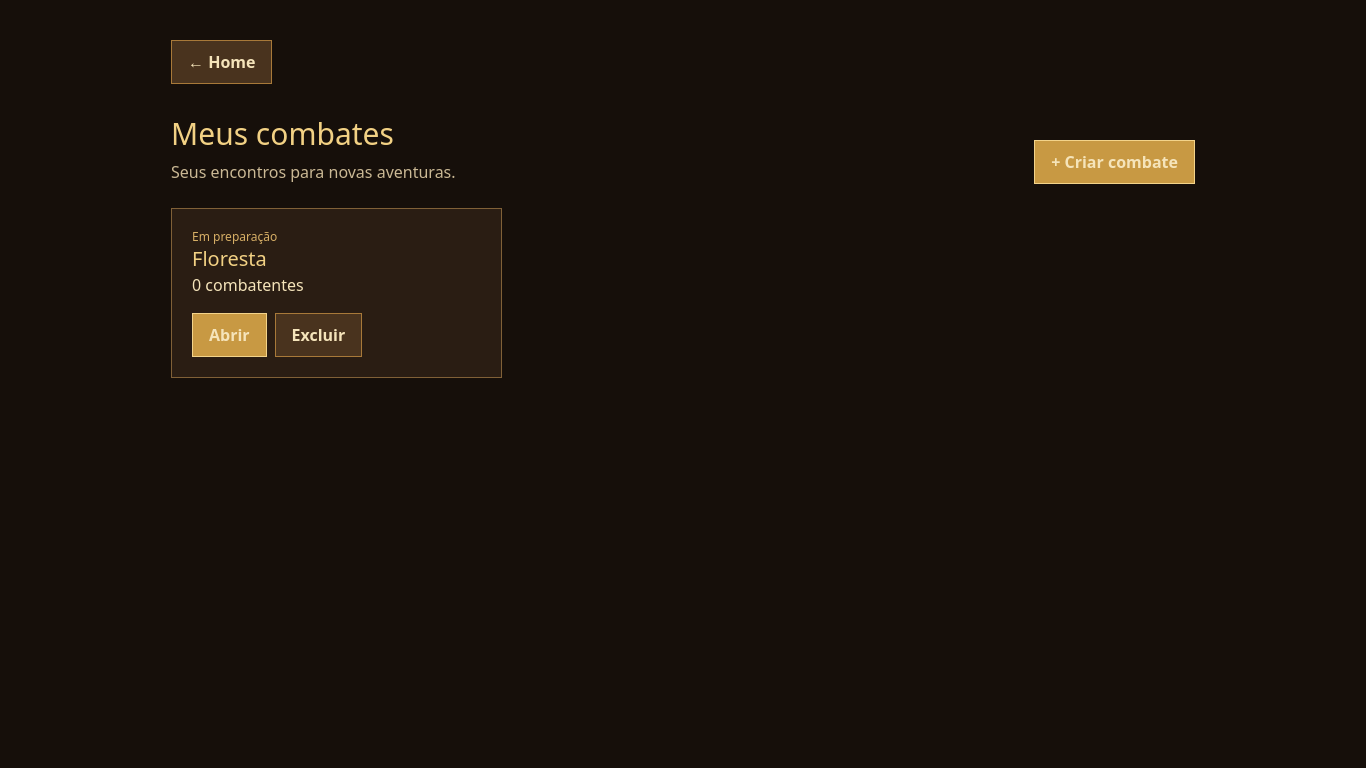
Test: discards selections on cancel and starts the next selection empty
The image size is (1366, 768).
Click the button "Abrir". click: click(229, 335)
box: [192,313,267,357]
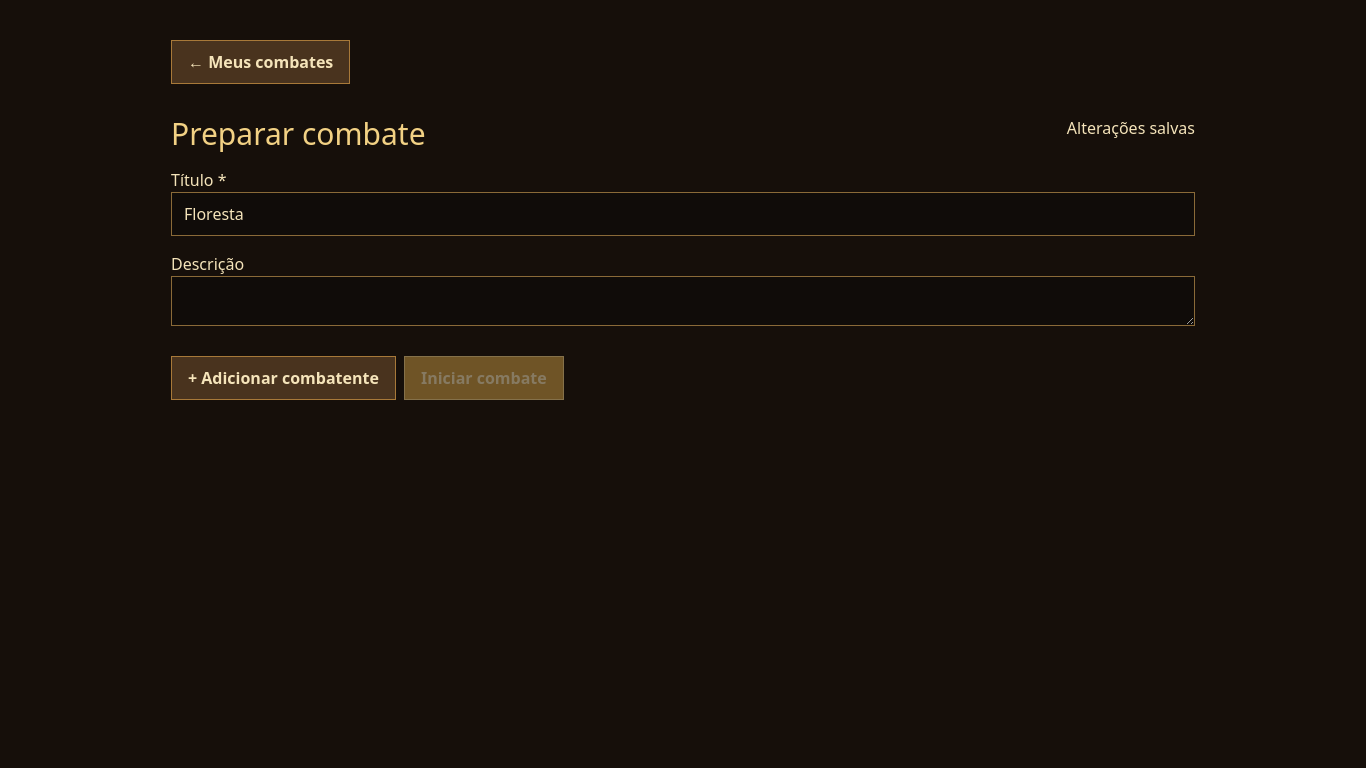
Click the button "+ Adicionar combatente". click: click(283, 378)
box: [171,356,396,400]
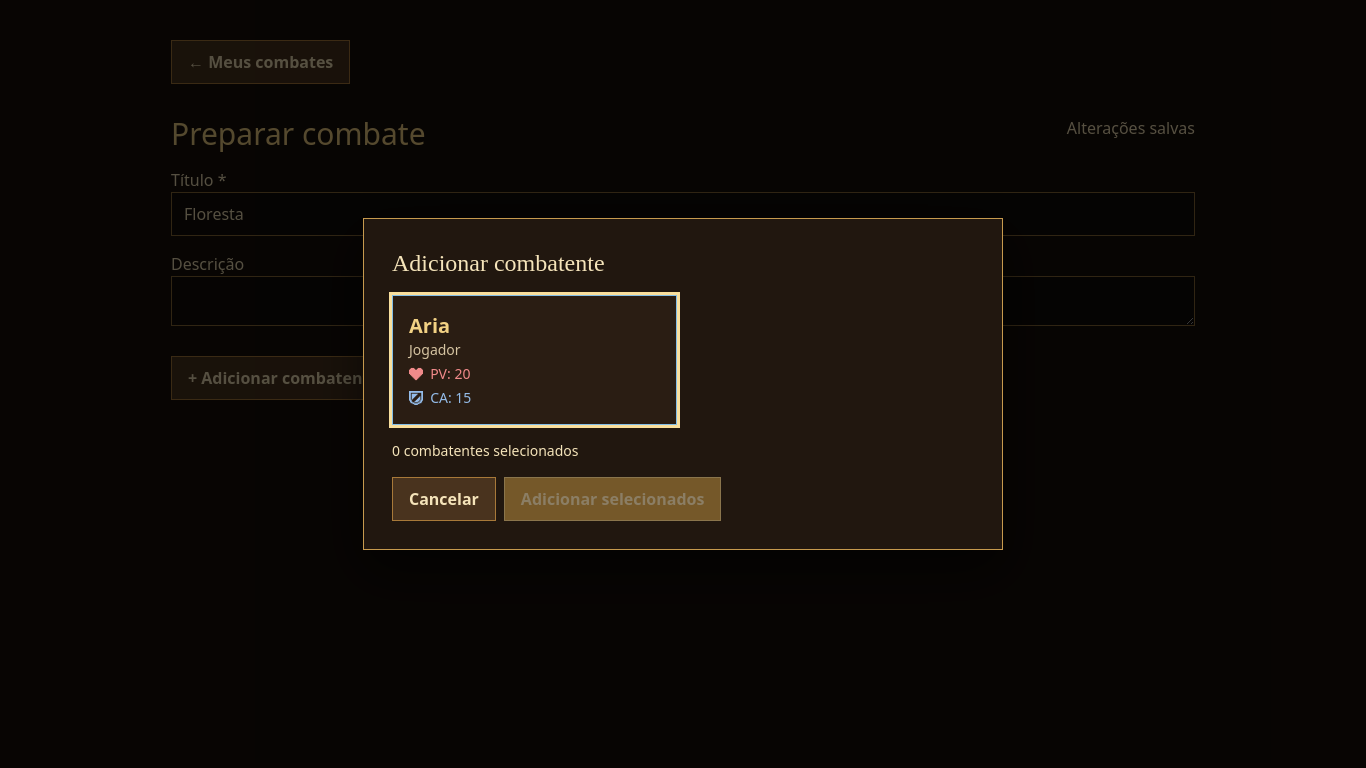
Click the button with aria-label "Aria · PV 20". click: click(430, 326)
box: [392,295,677,425]
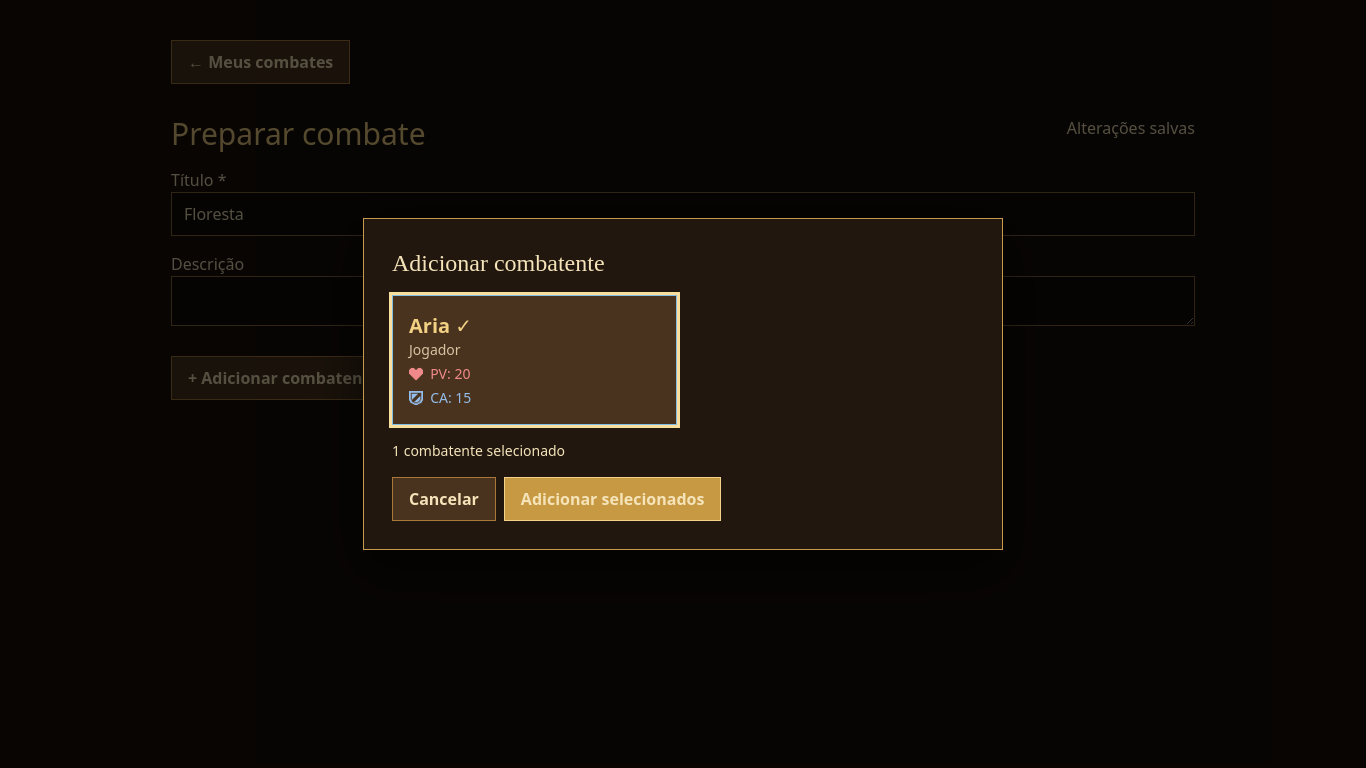
Click the button "Cancelar". click: click(444, 499)
box: [392,477,496,521]
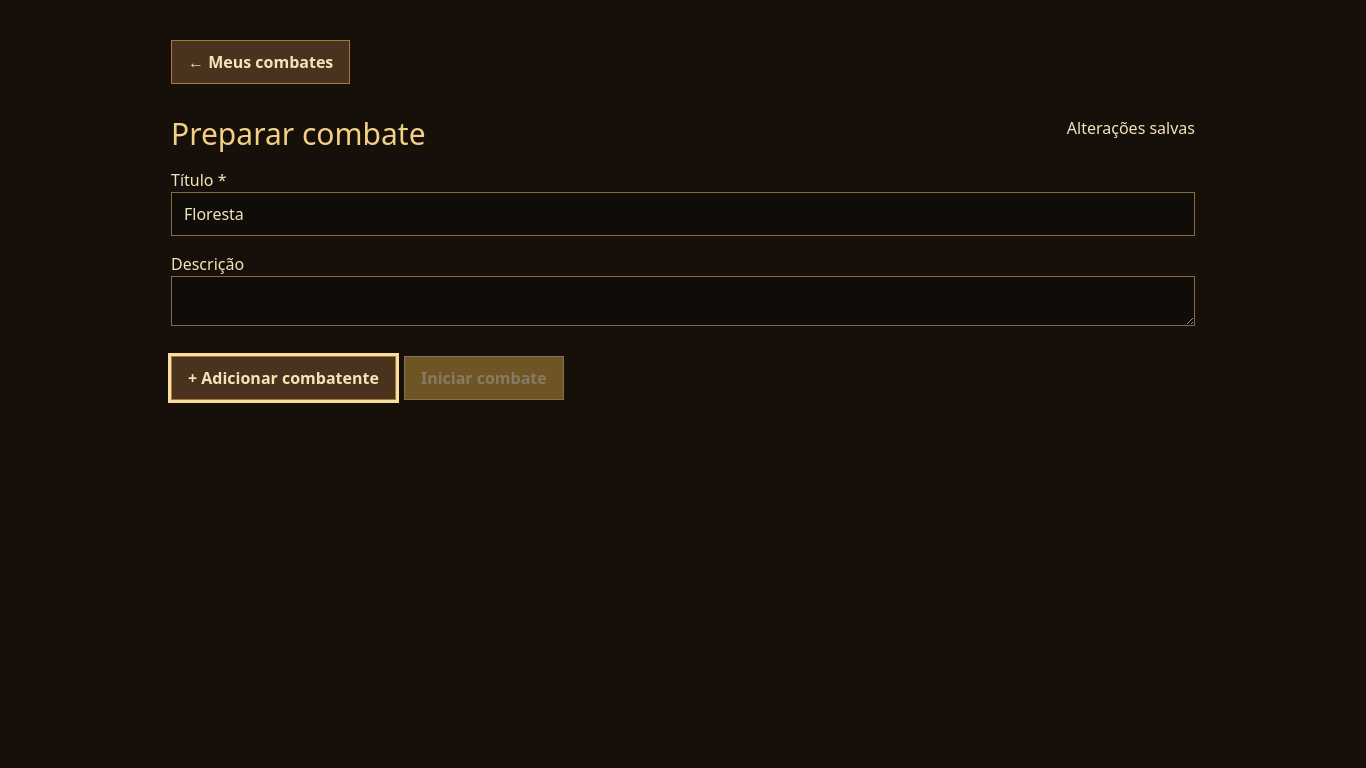
Click the button "+ Adicionar combatente". click: click(283, 378)
box: [171,356,396,400]
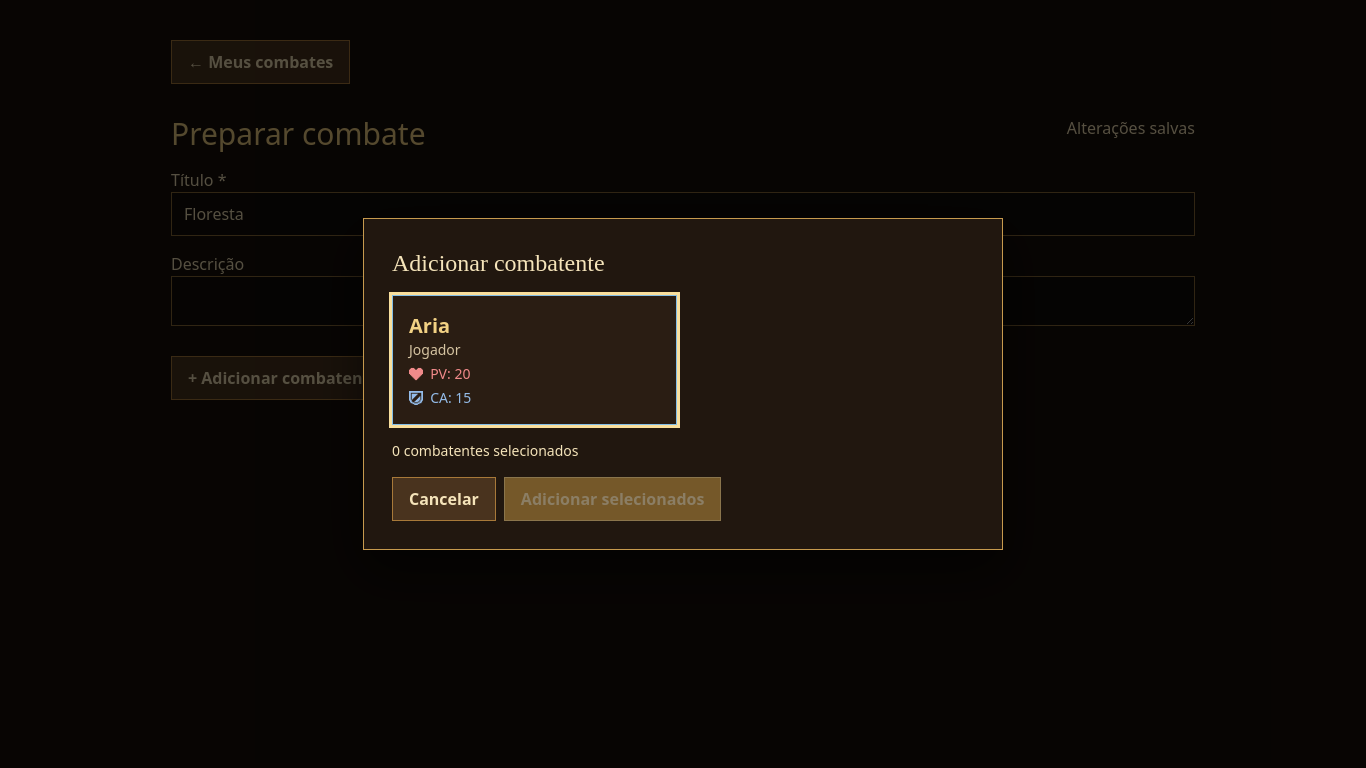
Check: the button "Adicionar selecionados" is disabled, box [504,477,722,521]
